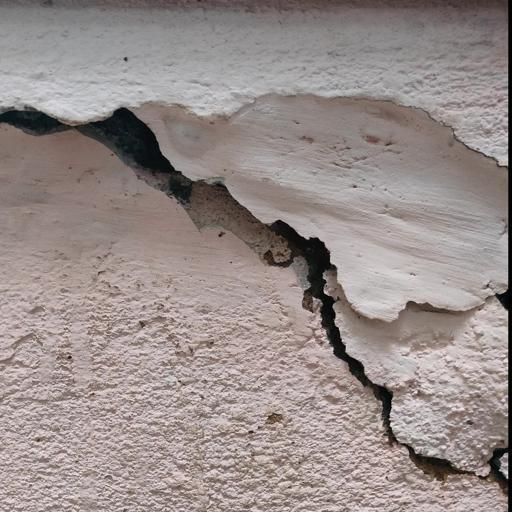major_crack: (0, 74, 512, 491)
